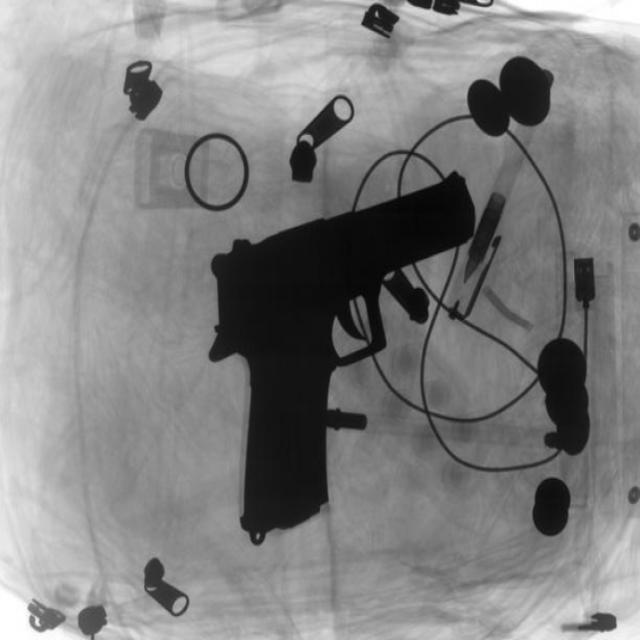GUN: (200, 149, 454, 535)
